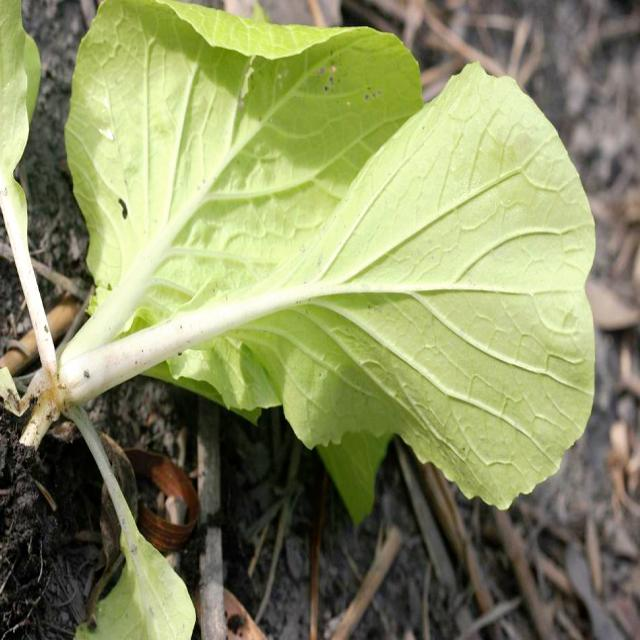chinese_cabbage: (61, 29, 592, 546)
